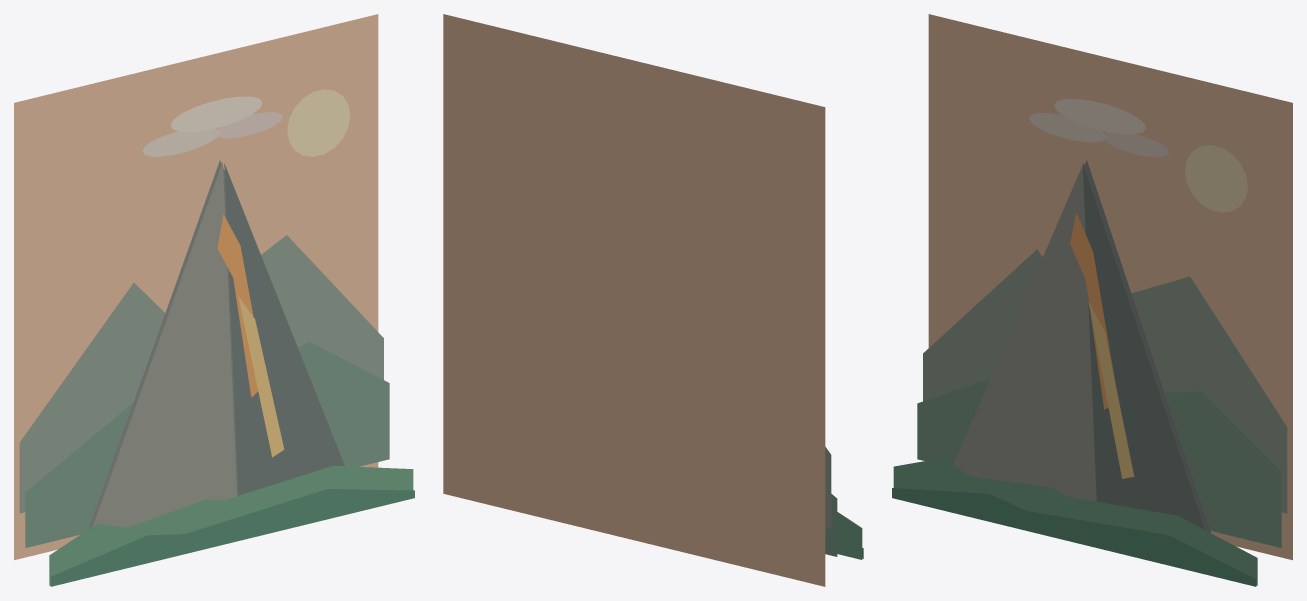
The model's file is mayon_billboard.gltf.
3 views of the same model, side by side, from view 1: azimuth 30°, elevation 25°; view 2: azimuth 150°, elevation 25°; view 3: azimuth 330°, elevation 25° (orthographic). The views are drawn at different scales.
Visible parts, largest first — view 1: Mount Mayon; view 2: Mount Mayon; view 3: Mount Mayon.
Boxes of the visible parts, bbox=[...] form: Mount Mayon: bbox=[14, 14, 414, 586]; Mount Mayon: bbox=[443, 14, 863, 586]; Mount Mayon: bbox=[892, 14, 1292, 586].
Size of the model in its own units: 1.5 by 1.8 by 0.26.
